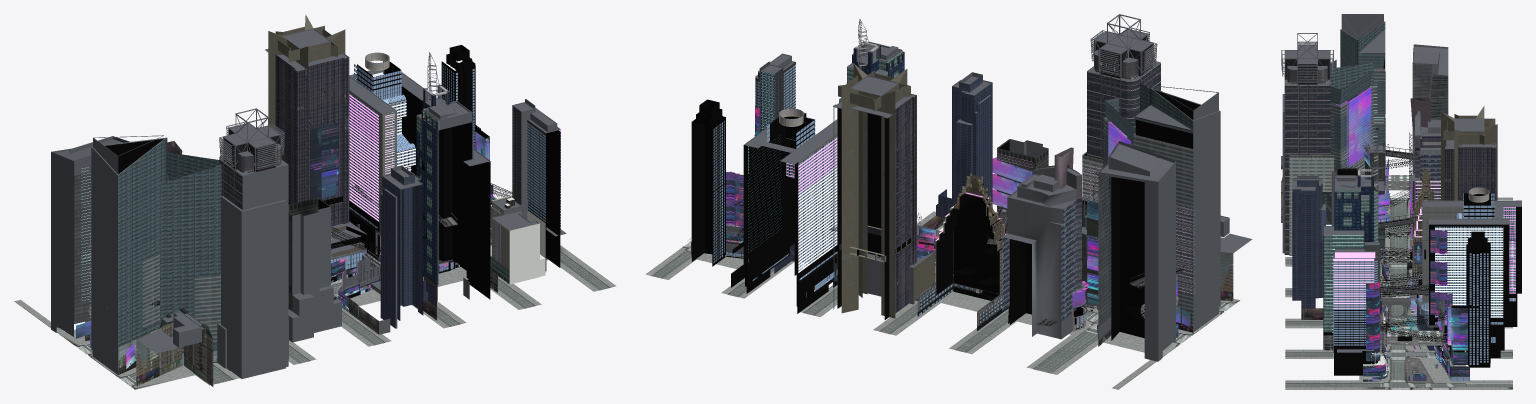
Rendered from city10febupdated-v1-transformed.glb.
3 renders of one model, left to right at view 1: azimuth 30°, elevation 25°; view 2: azimuth 150°, elevation 25°; view 3: azimuth 270°, elevation 25°, orthographic. The views are drawn at different scales.
Parts seen in each view (by area): view 1: Object_14, Object_180, Object_26, Object_41, Object_32, Object_11, Object_44.002, Object_68, Object_186, BézierCurve.062, Object_189; view 2: Object_14, Object_26, Object_180, Object_41, Object_32, Object_11, Object_44.002, Object_186, Object_189, BézierCurve.062; view 3: Object_180, Object_14, Object_26, Object_41, Object_32, Object_11, Plane.007, BézierCurve.062, Object_44.002, Line013_01 - Default_0.001, Cube.031, Object_186 (+3 smaller).
Boxes of the visible parts, bbox=[...] form: Object_14: bbox=[51, 28, 565, 378]; Object_180: bbox=[74, 55, 490, 370]; Object_26: bbox=[105, 45, 560, 299]; Object_41: bbox=[85, 14, 560, 386]; Object_32: bbox=[14, 196, 616, 389]; Object_11: bbox=[310, 99, 534, 286]; Object_44.002: bbox=[90, 103, 560, 317]; Object_68: bbox=[490, 197, 566, 284]; Object_186: bbox=[76, 224, 380, 368]; BézierCurve.062: bbox=[149, 183, 512, 306]; Object_189: bbox=[337, 94, 378, 300]; Object_14: bbox=[683, 14, 1252, 361]; Object_26: bbox=[691, 67, 1199, 340]; Object_180: bbox=[839, 41, 1200, 326]; Object_41: bbox=[755, 29, 1233, 346]; Object_32: bbox=[645, 211, 1239, 389]; Object_11: bbox=[691, 61, 1177, 296]; Object_44.002: bbox=[786, 153, 1194, 293]; Object_186: bbox=[774, 200, 1189, 338]; Object_189: bbox=[798, 138, 1094, 254]; BézierCurve.062: bbox=[732, 200, 1144, 326]; Object_180: bbox=[1284, 22, 1496, 332]; Object_14: bbox=[1281, 14, 1521, 389]; Object_26: bbox=[1322, 58, 1521, 380]; Object_41: bbox=[1281, 59, 1515, 362]; Object_32: bbox=[1285, 197, 1512, 389]; Object_11: bbox=[1336, 87, 1469, 380]; Plane.007: bbox=[1326, 86, 1503, 332]; BézierCurve.062: bbox=[1378, 158, 1446, 342]; Object_44.002: bbox=[1333, 139, 1515, 308]; Line013_01 - Default_0.001: bbox=[1385, 175, 1443, 345]; Cube.031: bbox=[1378, 147, 1428, 295]; Object_186: bbox=[1364, 146, 1449, 368].
Bounding box in the file's own units: 29.8 × 15.57 × 15.74.
21 materials, 19 textured.
